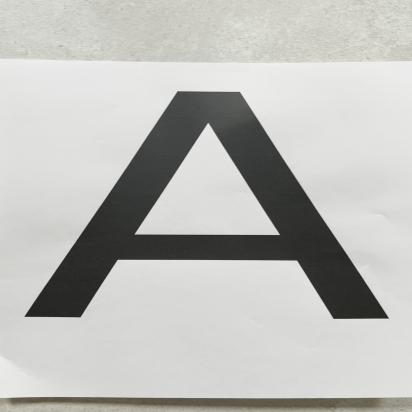seat: (10, 88, 412, 344)
